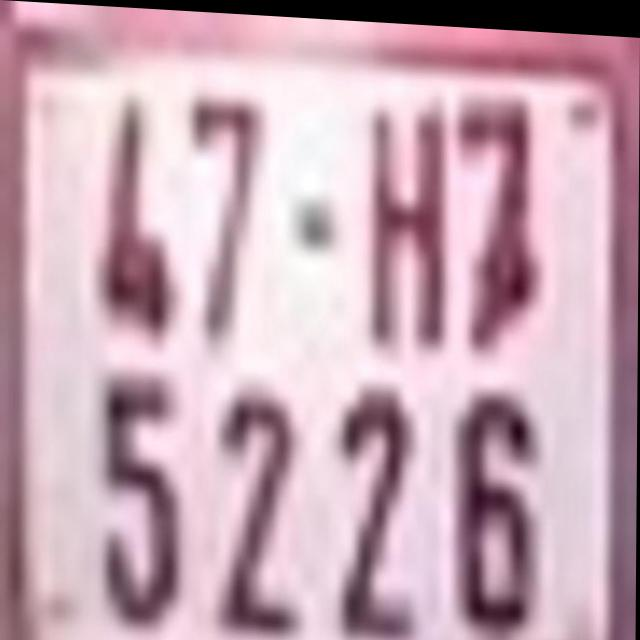2: (336, 370, 412, 624), (218, 391, 298, 620)
4: (103, 89, 175, 331)
5: (102, 374, 183, 626)
6: (458, 392, 537, 624)
7: (461, 82, 538, 356), (186, 93, 264, 333)
H: (369, 100, 452, 337)
